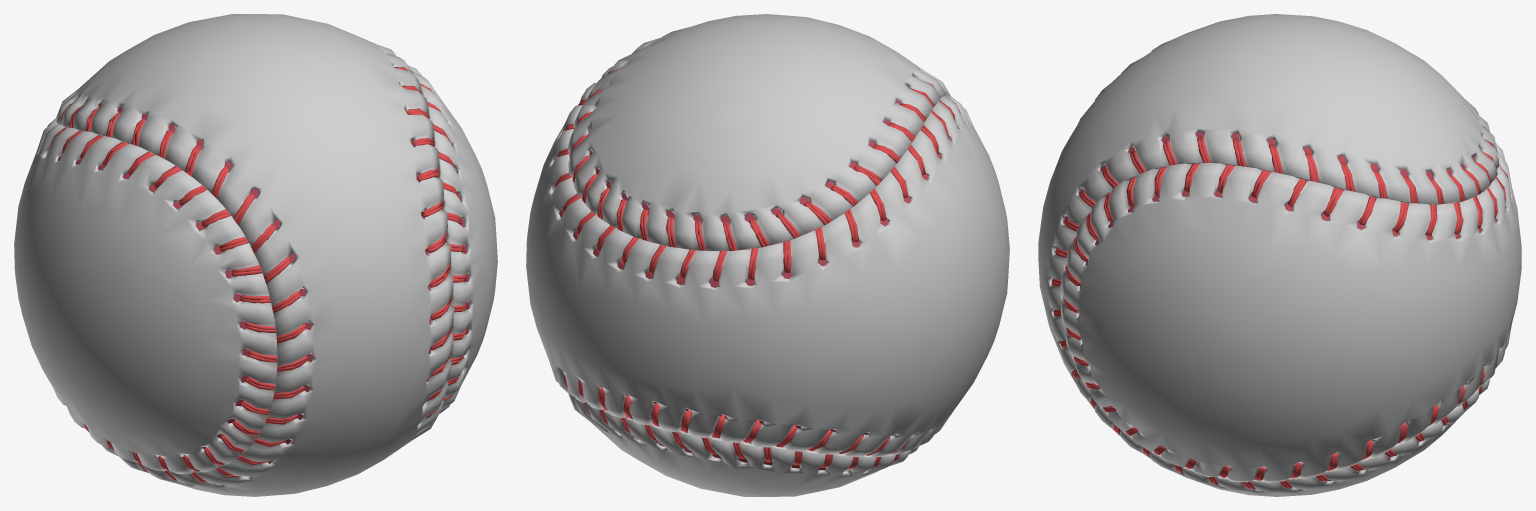
Rendered from Baseball_compressed.glb.
3 views of the same model, side by side, from view 1: azimuth 30°, elevation 25°; view 2: azimuth 150°, elevation 25°; view 3: azimuth 270°, elevation 25° (orthographic).
Visible parts, largest first — view 1: baseball; view 2: baseball; view 3: baseball.
Boxes of the visible parts, x1,y1,x2,y2 form: baseball: (14, 14, 497, 496); baseball: (526, 14, 1009, 496); baseball: (1038, 14, 1521, 496).
Bounding box in the file's own units: 2 × 2 × 2.01.
